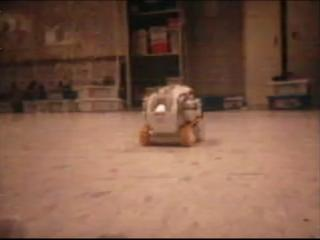cozmo: (138, 82, 205, 146)
